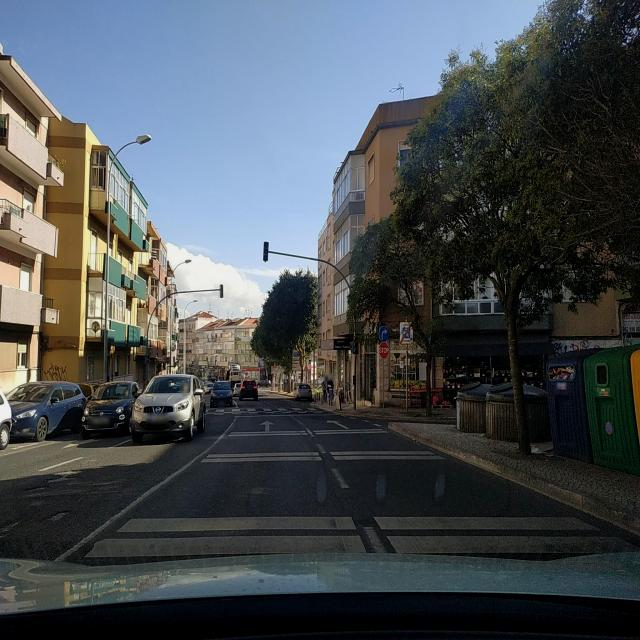car: (130, 374, 206, 443), (7, 381, 87, 442), (81, 381, 142, 437), (0, 386, 14, 454), (209, 381, 234, 408), (239, 378, 259, 401), (77, 382, 98, 401), (294, 383, 313, 401), (204, 376, 219, 394), (232, 380, 242, 398)
